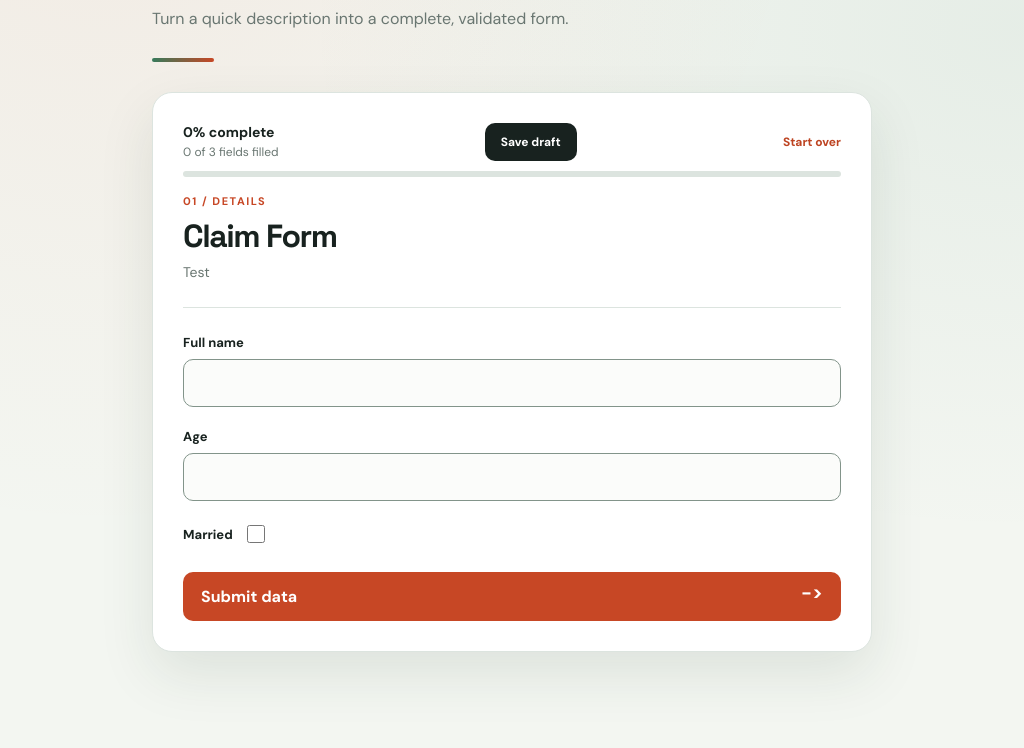
Test: App › submits and shows the success message
This screenshot has width=1024, height=748.
(page scrolled)
Click the button "Submit data ->". click: (249, 597)
box: [183, 572, 841, 621]
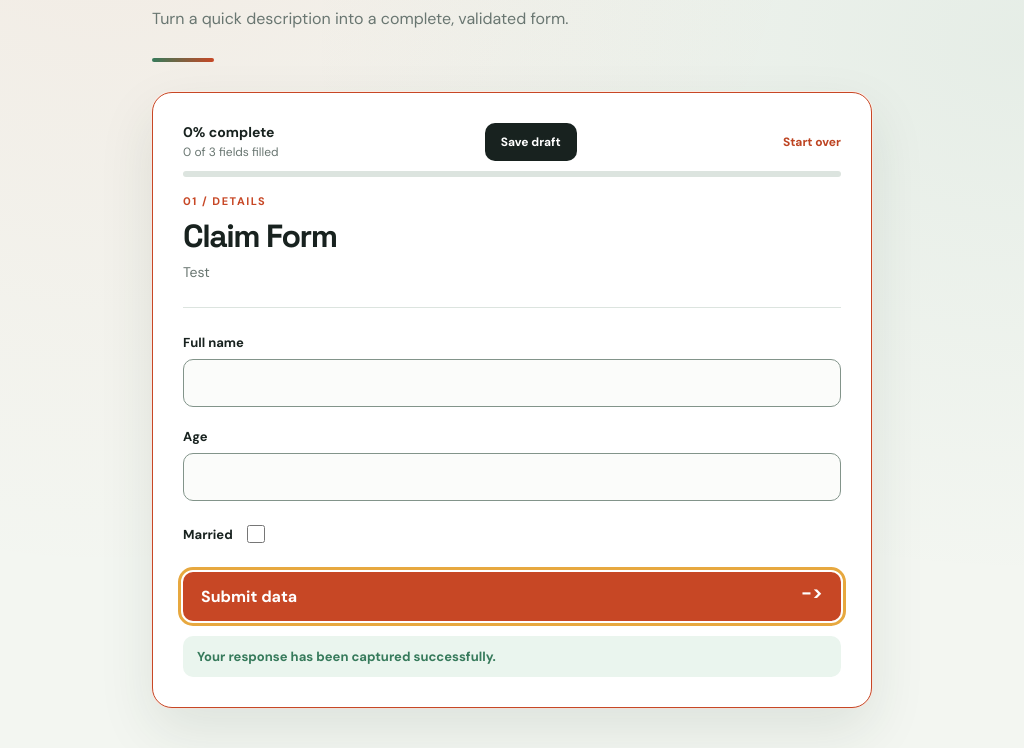
Expected: the text "Your response has been captured successfully." is shown, [183, 636, 841, 677]
